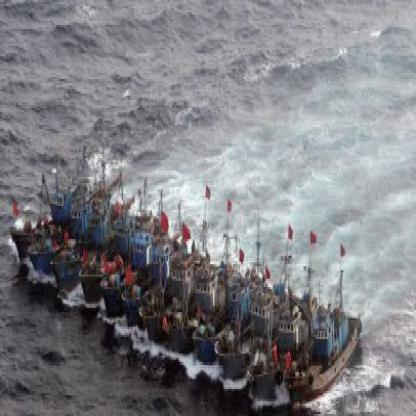fish-b: (7, 145, 118, 296), (270, 266, 374, 414), (120, 189, 194, 335), (202, 231, 262, 372)
